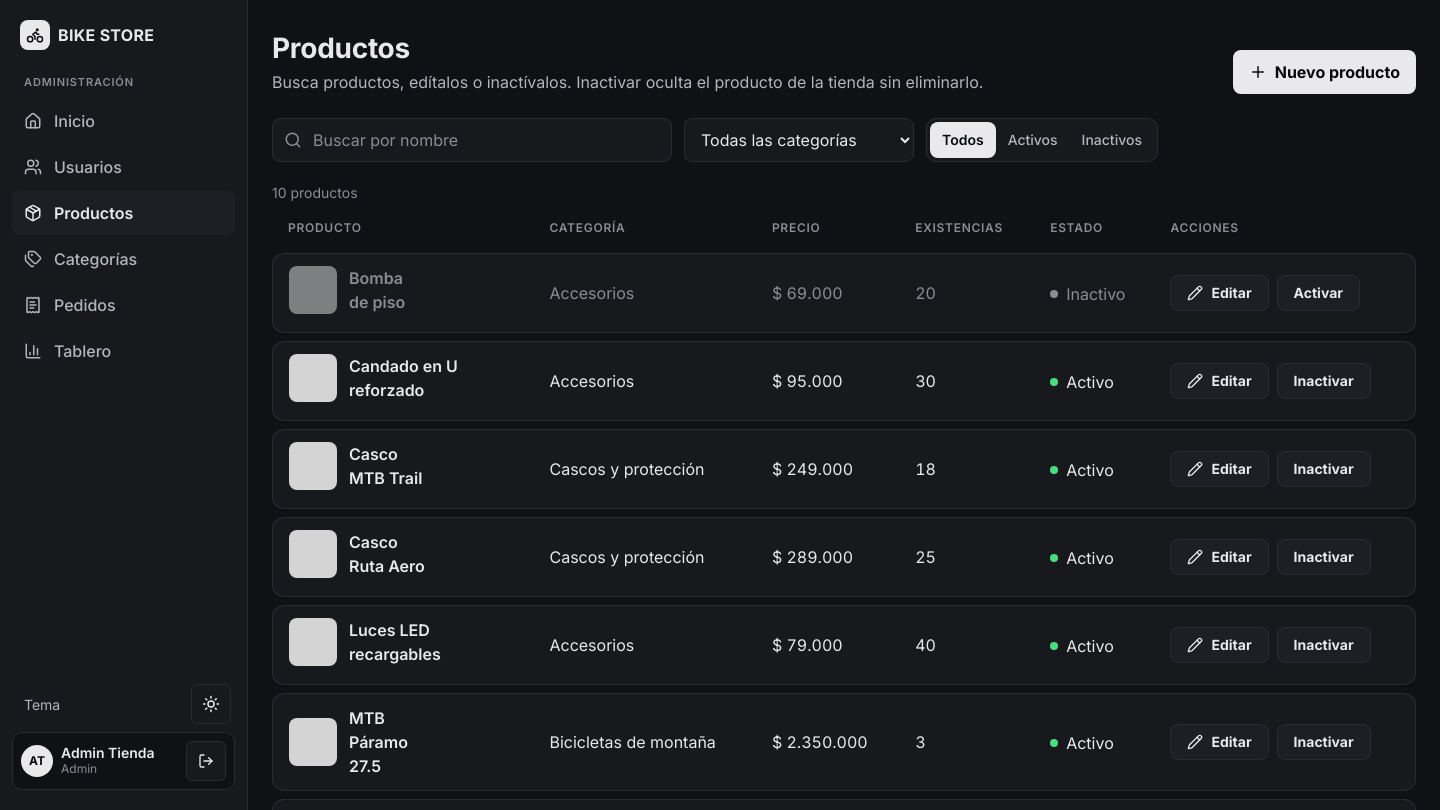
Scenario: Activar e inactivar (CU-14) › inactivar pide confirmación y actualiza la fila con la respuesta
Click the button "Inactivar" in the row of "Luces LED recargables" at (1324, 645), box 1277,627 -> 1371,663
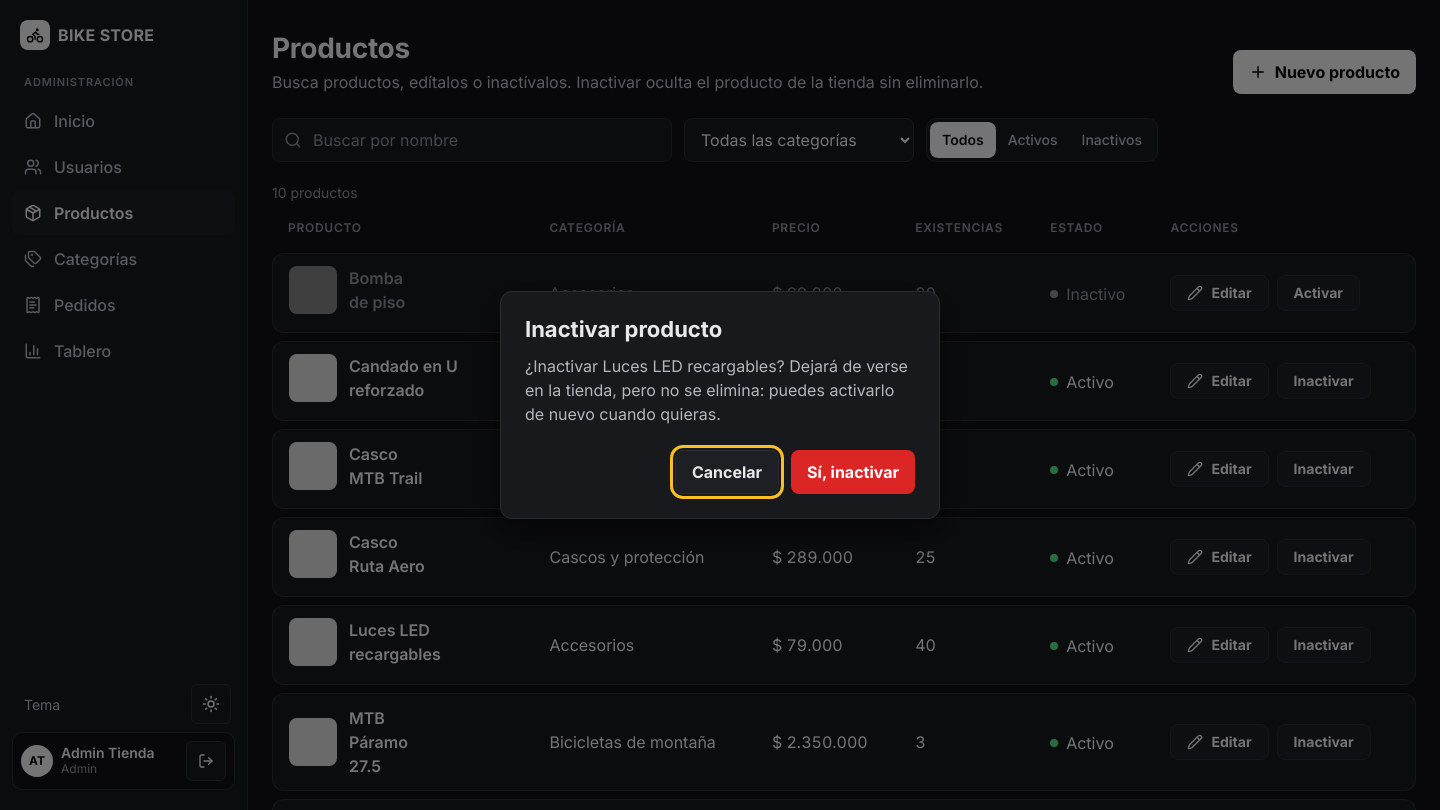
Now the text "no se elimina" is shown, box 525,356 -> 908,424
Click the button "Sí, inactivar" at (853, 472), box 791,450 -> 915,494
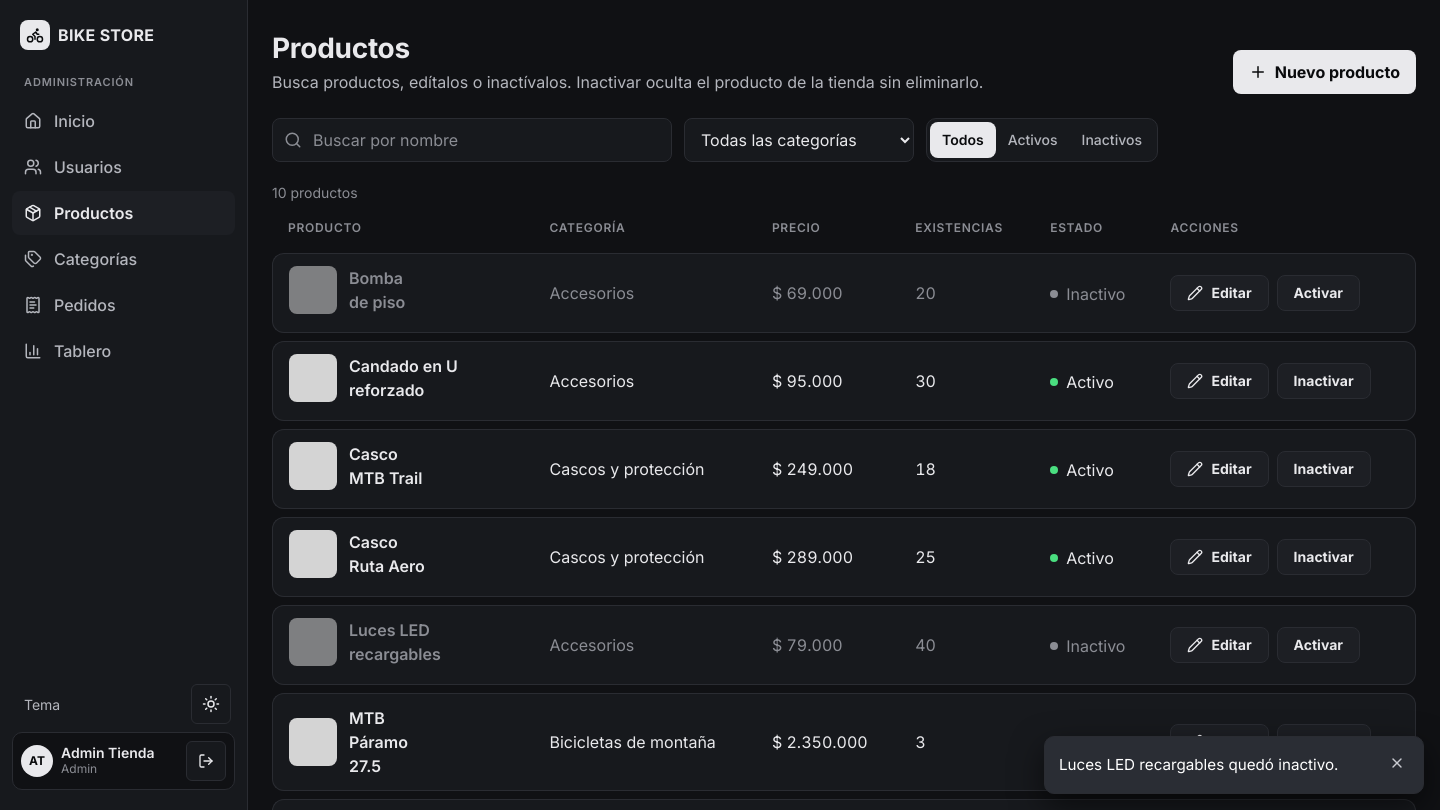
Now the dialog is gone
